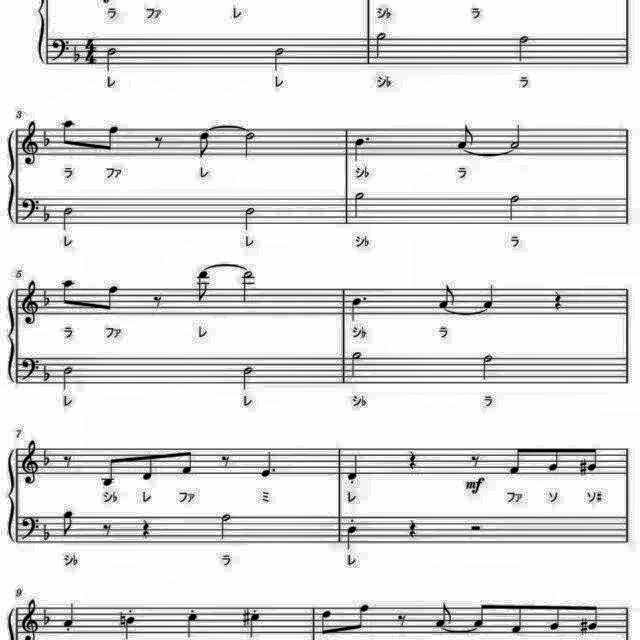Bass-clef: (51, 37, 73, 67), (20, 514, 42, 542), (20, 354, 42, 382), (21, 196, 43, 224)
Bemol: (38, 198, 54, 226), (41, 445, 55, 471), (41, 359, 54, 386), (41, 125, 53, 154), (40, 604, 52, 632), (72, 42, 84, 68), (40, 285, 52, 311), (40, 516, 51, 540)
Eighth-note: (98, 120, 124, 156), (98, 451, 122, 489), (348, 600, 372, 636), (430, 598, 456, 630), (98, 283, 122, 317), (138, 446, 158, 482), (59, 116, 79, 152), (506, 602, 526, 638), (195, 269, 215, 305), (196, 128, 217, 162), (504, 442, 524, 476), (60, 275, 80, 309), (452, 122, 476, 150), (436, 284, 459, 312), (180, 444, 200, 476), (469, 600, 489, 632), (547, 604, 567, 636), (58, 511, 78, 542), (546, 443, 566, 473), (317, 607, 335, 640), (582, 442, 600, 474), (582, 604, 600, 636)
Eighth-rest: (466, 443, 484, 473), (148, 132, 168, 156), (100, 518, 116, 546), (216, 450, 234, 472), (148, 289, 166, 311), (394, 611, 411, 633), (60, 449, 76, 471)
Half-note: (350, 188, 370, 224), (238, 270, 258, 306), (512, 33, 532, 67), (506, 190, 526, 224), (370, 31, 390, 65), (478, 352, 498, 384), (240, 128, 260, 160), (346, 347, 366, 379), (240, 203, 260, 233), (238, 363, 258, 393), (270, 45, 290, 75), (216, 510, 234, 542), (59, 203, 77, 233), (103, 44, 121, 72), (508, 122, 526, 150), (60, 364, 76, 394)
Half-rest: (470, 518, 482, 536)
Quarter-dot: (350, 290, 374, 326), (259, 443, 281, 481), (352, 133, 372, 163)
Quarter-note: (60, 600, 80, 636), (182, 608, 202, 640), (344, 450, 364, 482), (480, 282, 500, 312), (344, 524, 361, 552)
Quarter-rest: (405, 517, 423, 543), (550, 289, 568, 315), (406, 446, 422, 472), (138, 516, 154, 540)
Treble-clef: (20, 278, 44, 326), (21, 439, 44, 487), (20, 120, 42, 168)
